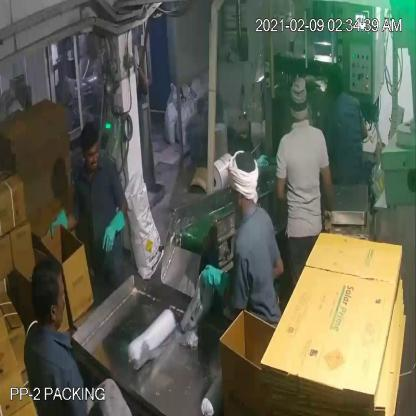glove: (191, 255, 235, 309), (99, 214, 132, 260), (43, 209, 76, 249)
no_glove: (315, 152, 341, 230), (272, 168, 294, 217)
